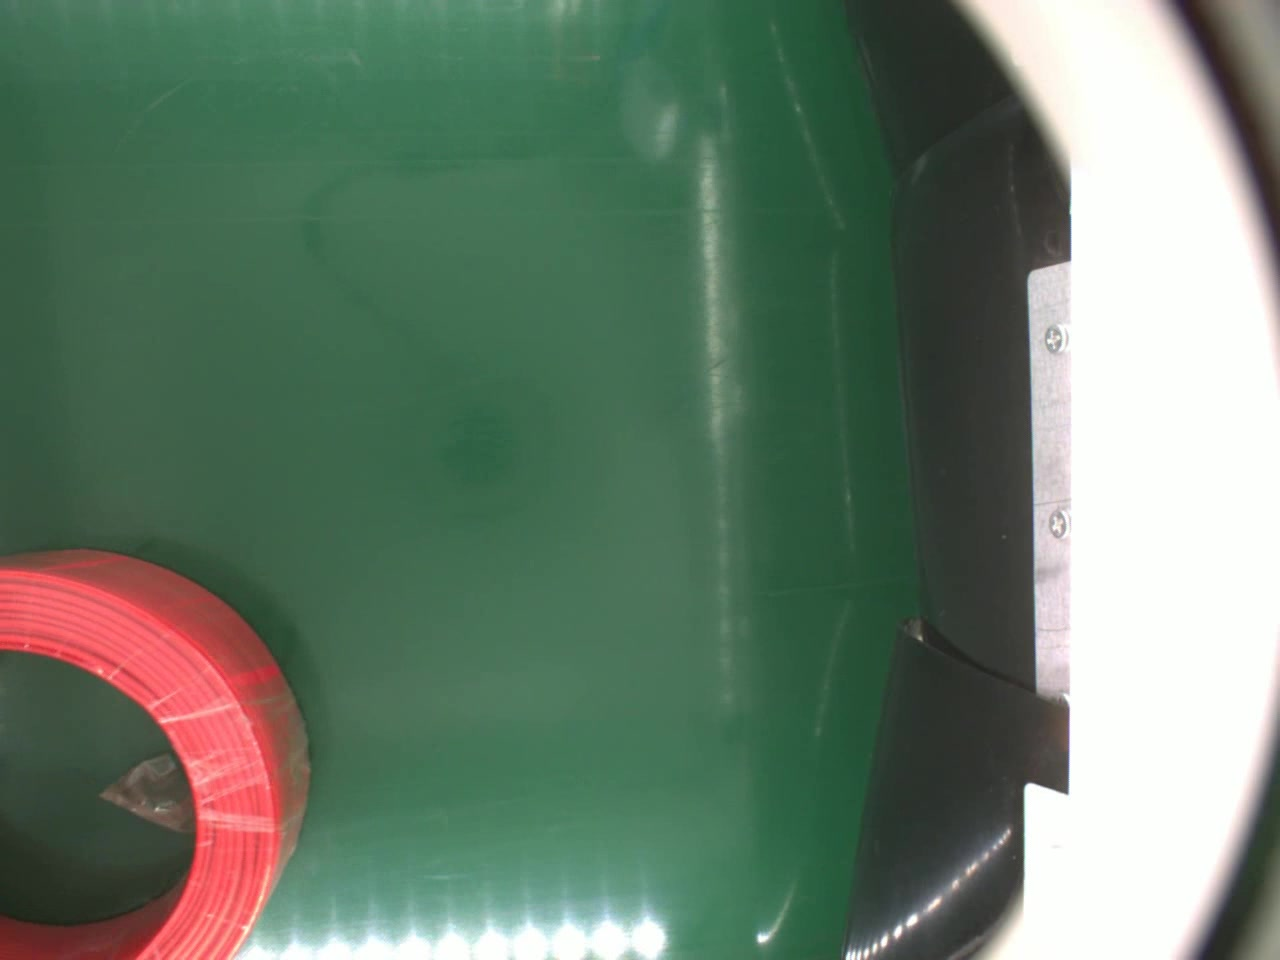red: (0, 547, 312, 960)
